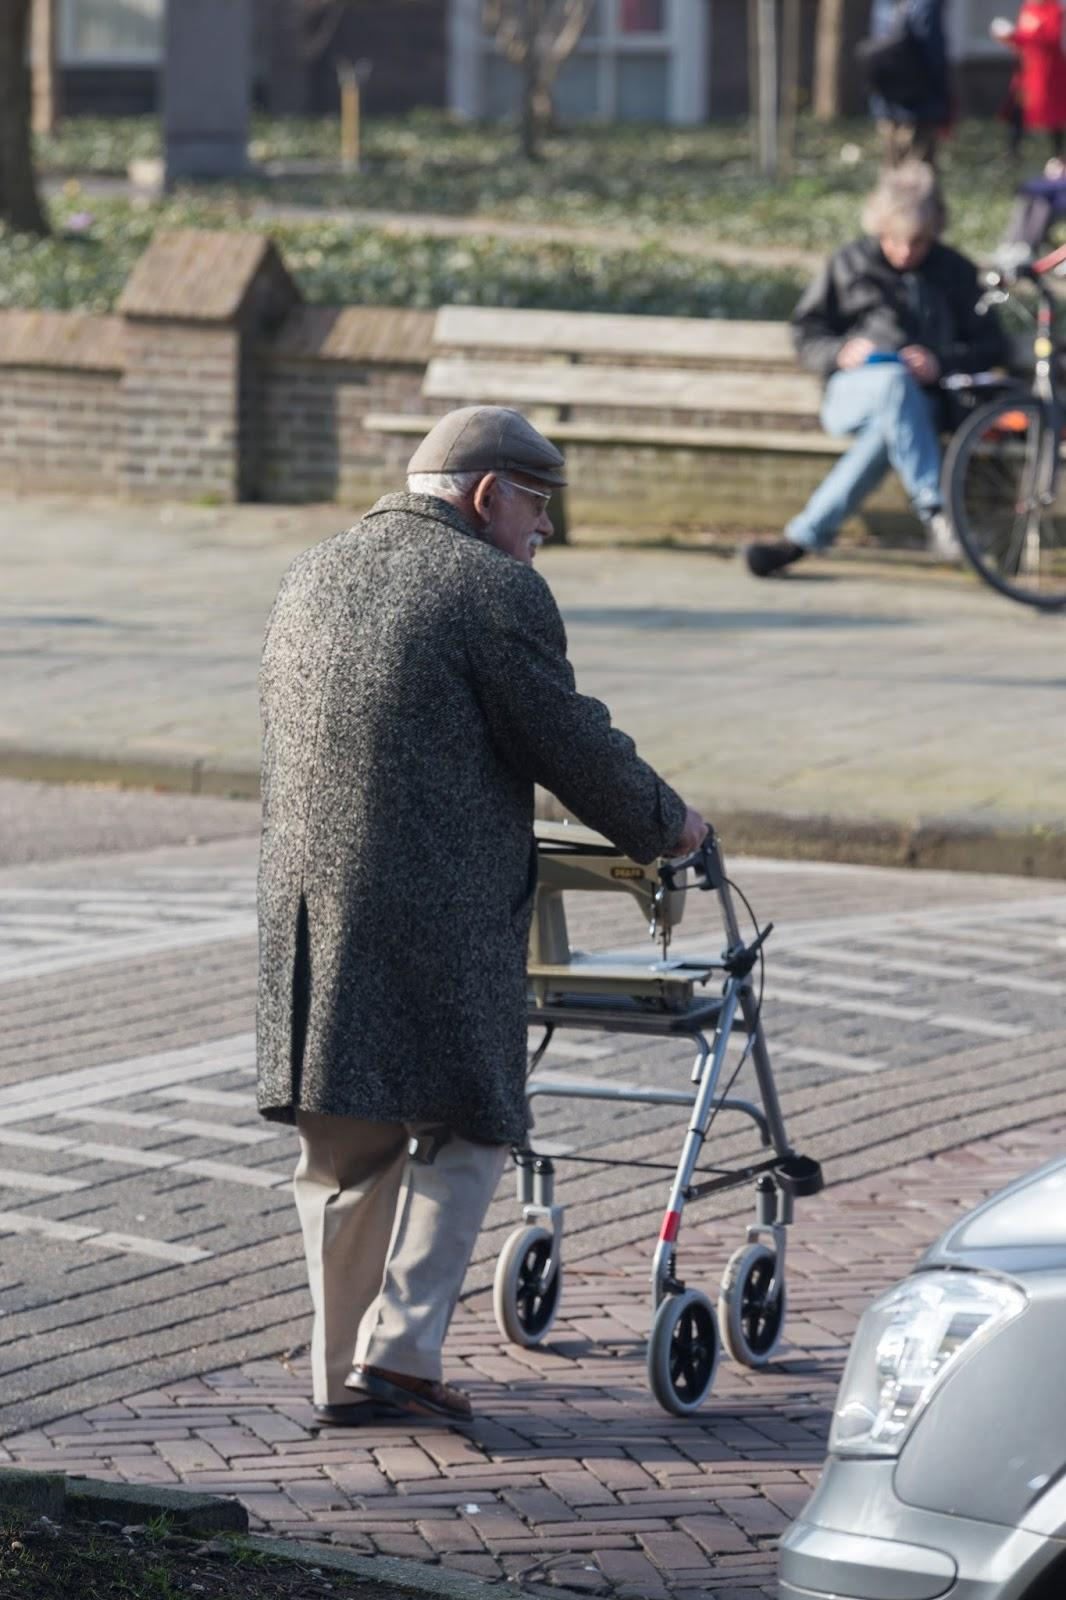walking_frame: (255, 406, 824, 1426)
